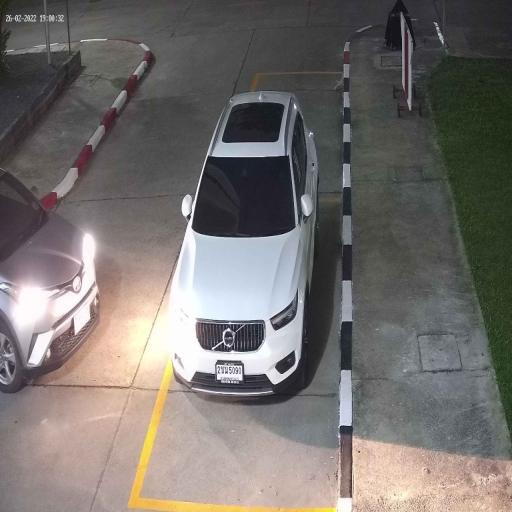car: (170, 94, 318, 392), (0, 169, 99, 391)
